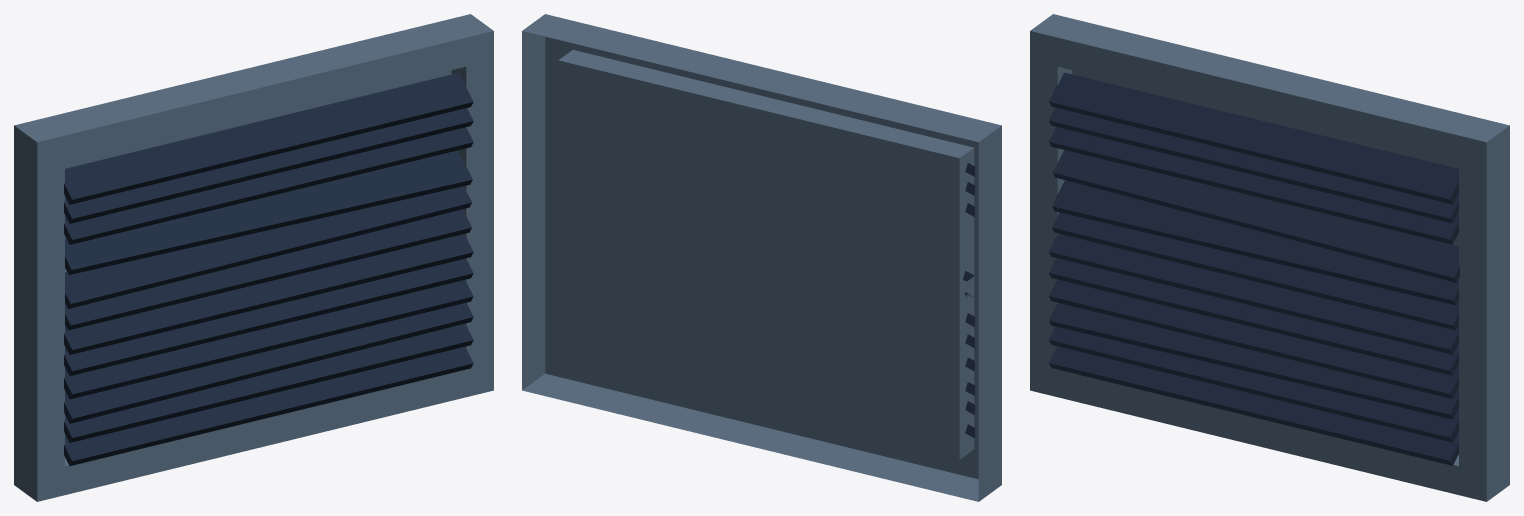
Rendered from Blockout_Prop_Vent_01.FBX.
3 renders of one model, left to right at view 1: azimuth 30°, elevation 25°; view 2: azimuth 150°, elevation 25°; view 3: azimuth 330°, elevation 25°, orthographic.
Visible parts, largest first — view 1: Blockout_Prop_Vent_01; view 2: Blockout_Prop_Vent_01; view 3: Blockout_Prop_Vent_01.
Boxes of the visible parts, box(x1,y1,x2,y2) form: Blockout_Prop_Vent_01: box(14, 14, 493, 501); Blockout_Prop_Vent_01: box(522, 14, 1001, 501); Blockout_Prop_Vent_01: box(1030, 14, 1509, 501).
Bounding box in the file's own units: 126 × 94.55 × 14.94.
